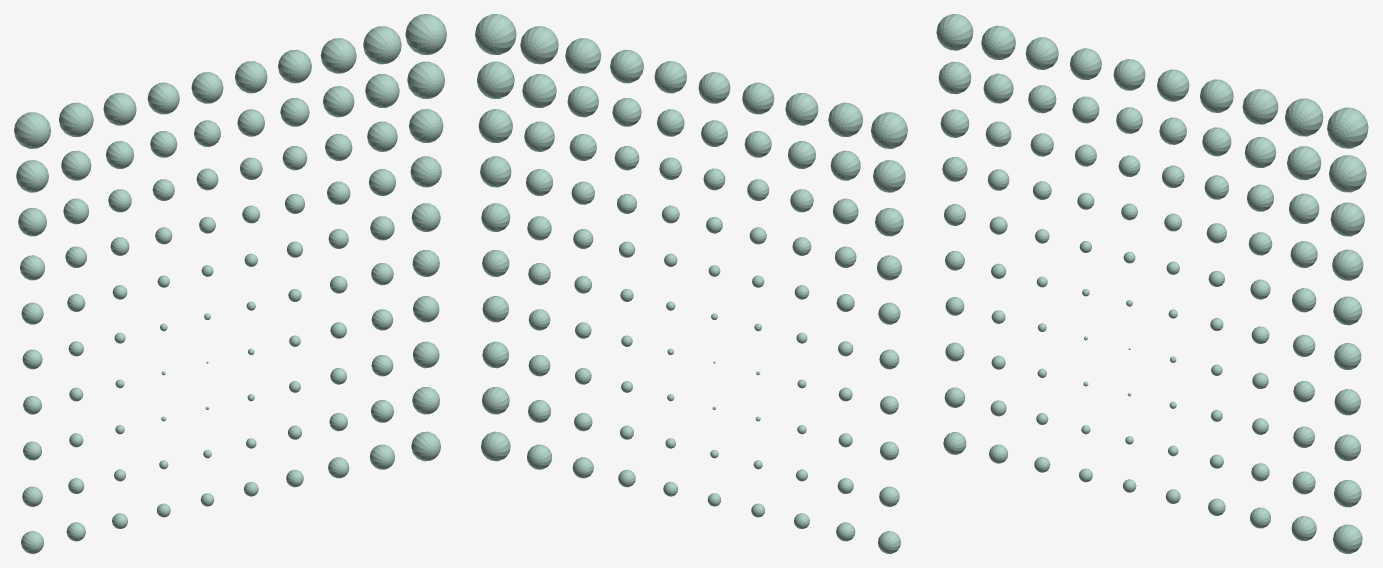
The picture shows the model from 3 angles, left to right: view 1: azimuth 30°, elevation 25°; view 2: azimuth 150°, elevation 25°; view 3: azimuth 330°, elevation 25°; orthographic projection.
Visible parts, largest first — view 1: s99, s89, s98, s9, s79, s19, s88, s97, s69, s29, s8, s59 (+21 smaller); view 2: s99, s89, s98, s9, s79, s19, s88, s97, s69, s29, s8, s59 (+21 smaller); view 3: s99, s89, s98, s9, s79, s19, s97, s88, s69, s29, s8, s59 (+21 smaller).
Boxes of the visible parts, x1,y1,x2,y2 form: s99: (405,14,446,54); s89: (363,26,401,64); s98: (407,61,444,98); s9: (14,112,50,148); s79: (320,38,356,73); s19: (59,102,93,136); s88: (365,74,399,107); s97: (409,109,443,142); s69: (278,49,311,83); s29: (103,93,136,125); s8: (16,160,48,192); s59: (235,61,267,93); s99: (475,14,516,54); s89: (520,26,558,64); s98: (477,61,514,98); s9: (871,112,907,148); s79: (565,38,601,73); s19: (828,102,862,136); s88: (522,74,556,107); s97: (478,109,512,142); s69: (610,49,643,83); s29: (785,93,818,125); s8: (873,160,905,192); s59: (654,61,686,93); s99: (1327,107,1368,148); s89: (1285,98,1323,136); s98: (1329,155,1366,192); s9: (936,14,973,50); s79: (1242,89,1278,124); s19: (981,25,1015,59); s97: (1330,202,1364,236); s88: (1287,146,1321,180); s69: (1200,79,1233,112); s29: (1025,37,1058,69); s8: (938,61,971,94); s59: (1157,69,1189,101).
Size of the model in its own units: 9.78 by 9.71 by 0.8236.
